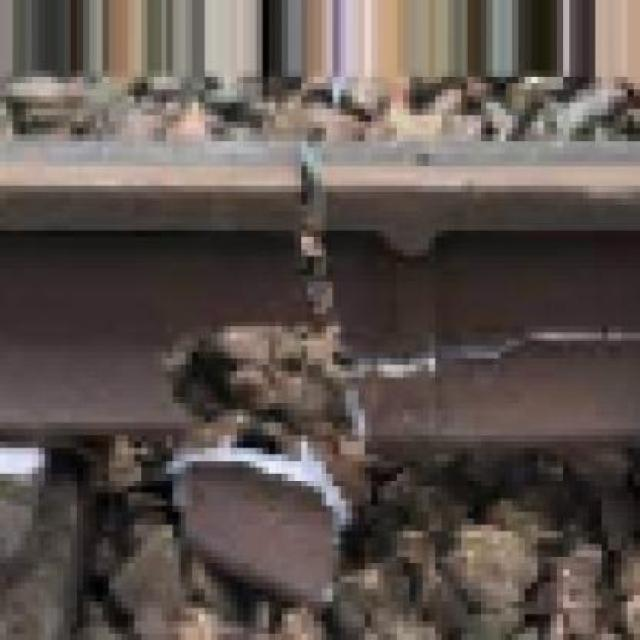defective: (58, 67, 548, 640)
